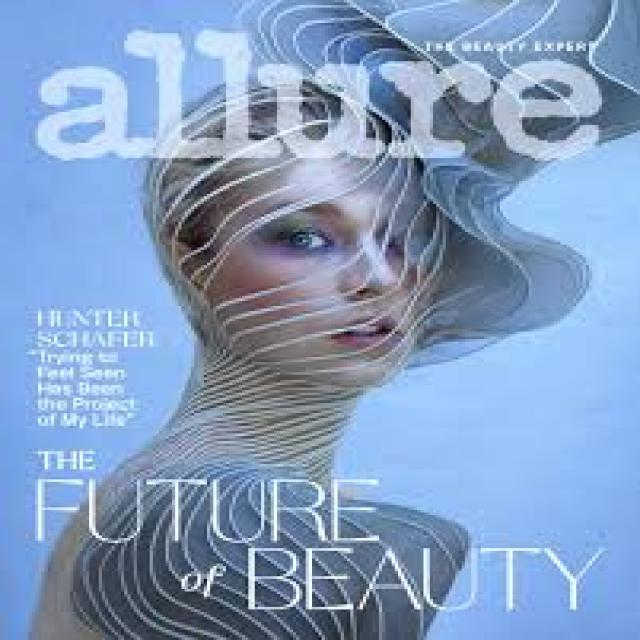paper: (18, 10, 624, 636)
